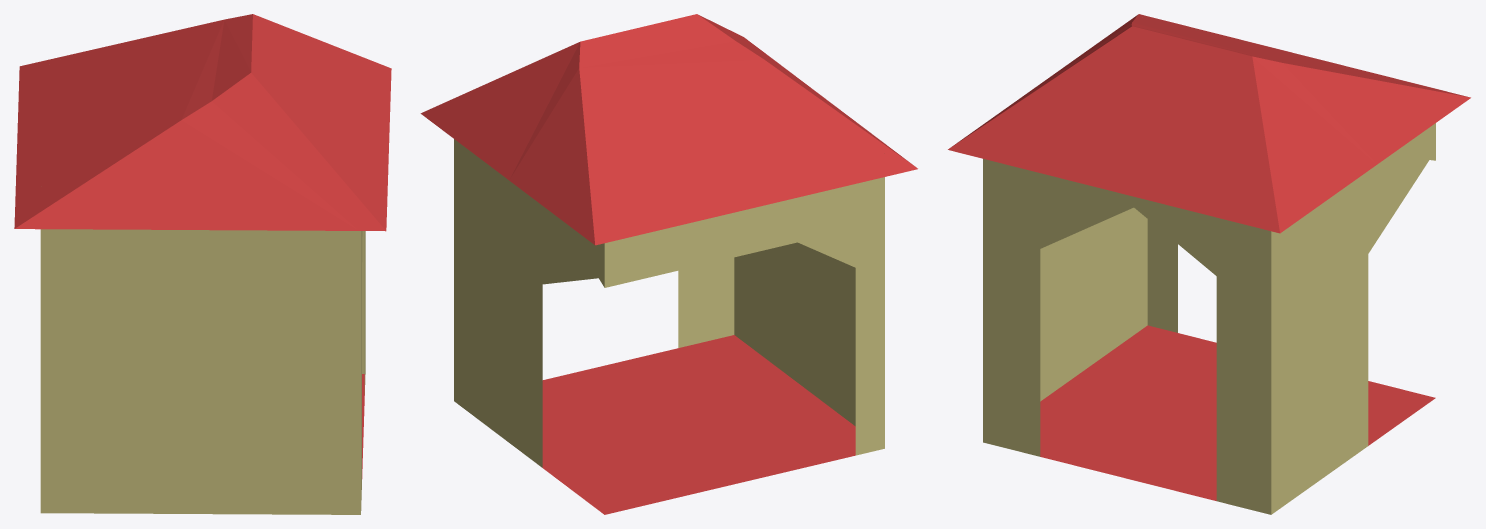
The picture shows the model from 3 angles, left to right: view 1: azimuth 30°, elevation 25°; view 2: azimuth 150°, elevation 25°; view 3: azimuth 270°, elevation 25°; orthographic projection. The views are drawn at different scales.
Parts seen in each view (by area): view 1: group_5, group_3, group_4; view 2: group_5, group_3, group_6, group_4; view 3: group_5, group_3, group_6, group_4.
Part boxes in pixels (x1,y1,x2,y2): group_5: (40,229,365,514); group_3: (15,14,390,231); group_4: (14,58,391,230); group_5: (454,139,884,467); group_3: (432,14,912,244); group_6: (542,335,855,514); group_4: (420,33,917,245); group_5: (983,123,1435,514); group_3: (948,16,1456,232); group_6: (1040,325,1435,500); group_4: (952,14,1470,233).
Size of the model in its own units: 15.08 by 15.22 by 12.78.
